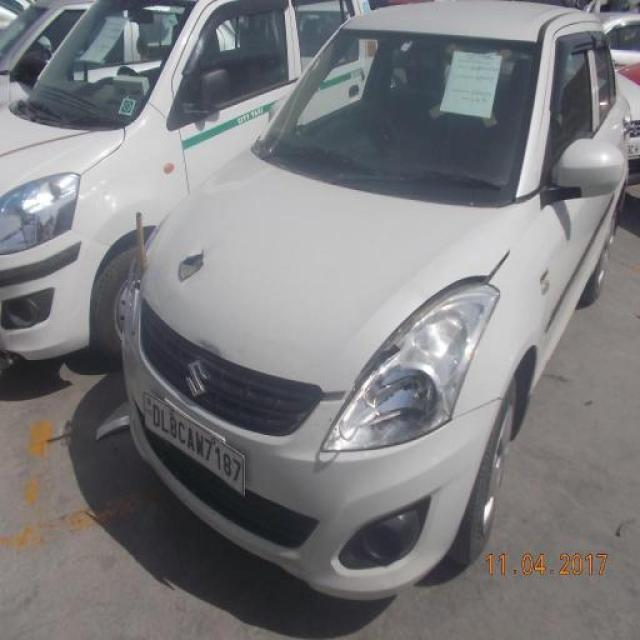misalignment: (330, 251, 508, 424)
tear: (177, 250, 208, 285)
